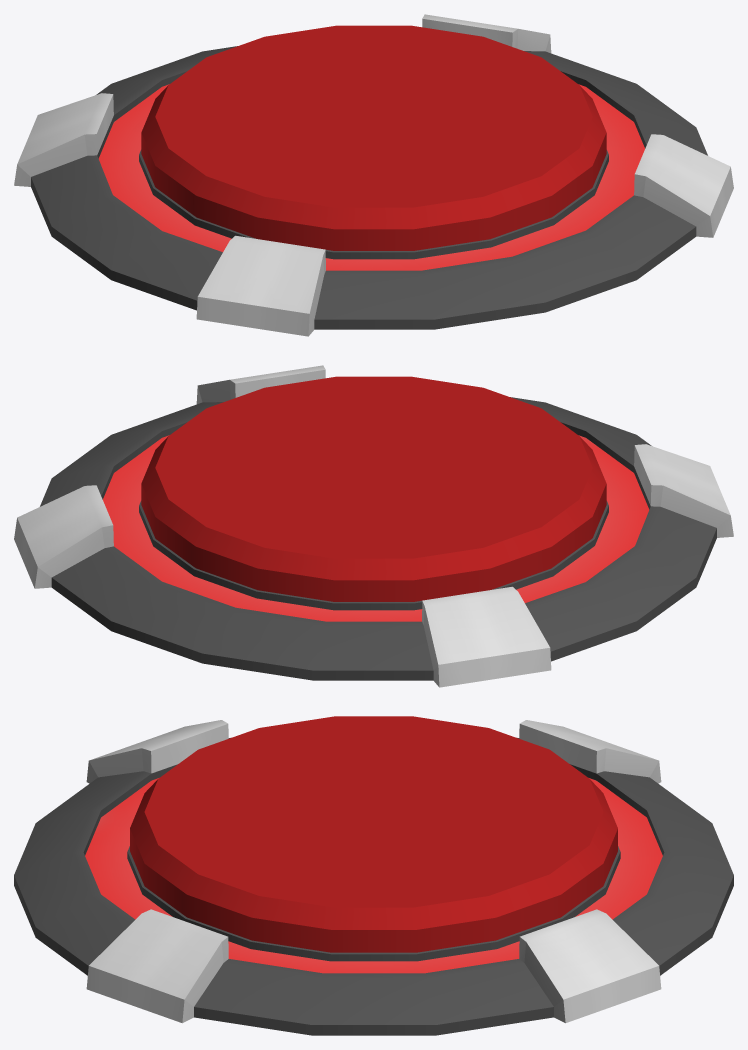
The model's file is SM_button.FBX.
The picture shows the model from 3 angles, top to bottom: view 1: azimuth 30°, elevation 25°; view 2: azimuth 150°, elevation 25°; view 3: azimuth 270°, elevation 25°; orthographic projection. The views are drawn at different scales.
Visible parts, largest first — view 1: interrupteur; view 2: interrupteur; view 3: interrupteur.
Boxes of the visible parts, x1,y1,x2,y2 form: interrupteur: (14, 14, 733, 336); interrupteur: (14, 365, 733, 687); interrupteur: (14, 716, 733, 1035).
Size of the model in its own units: 141 by 16.2 by 143.
